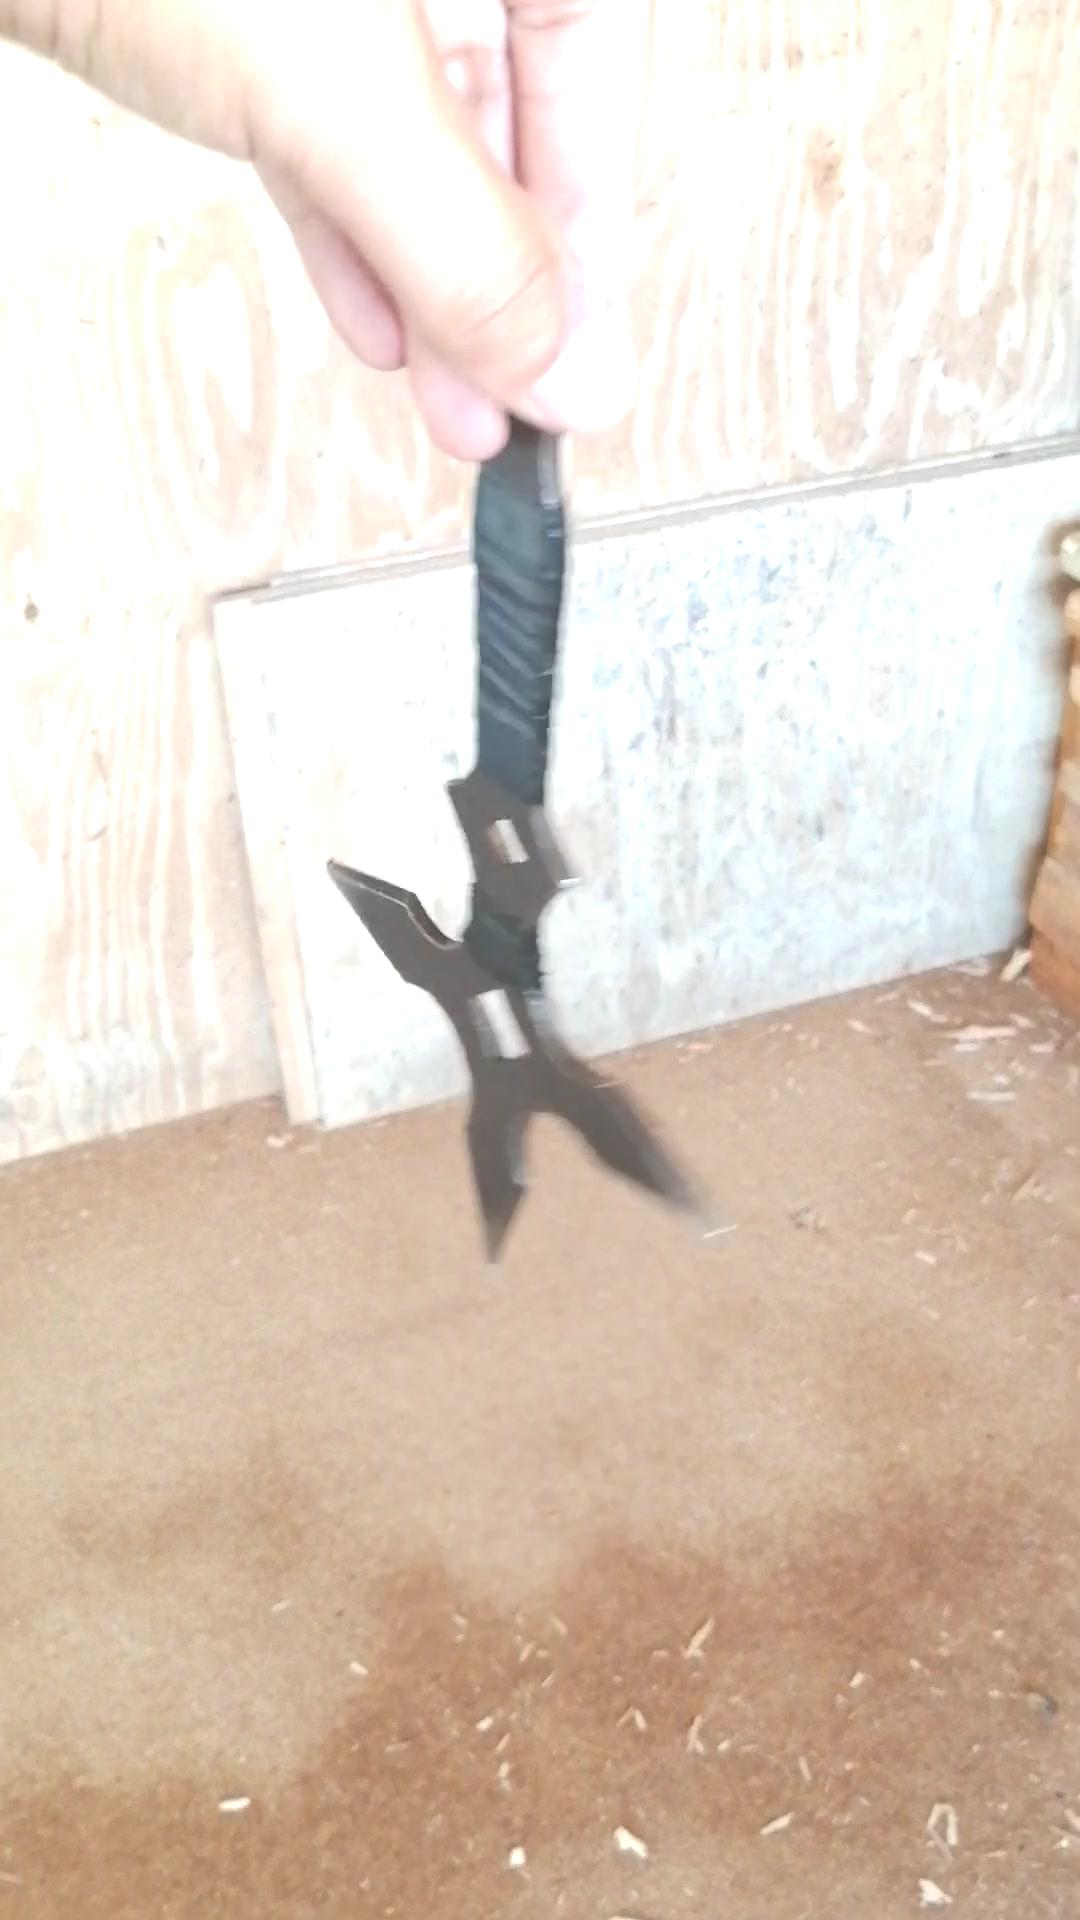Hand Axe: (328, 373, 727, 1258)
